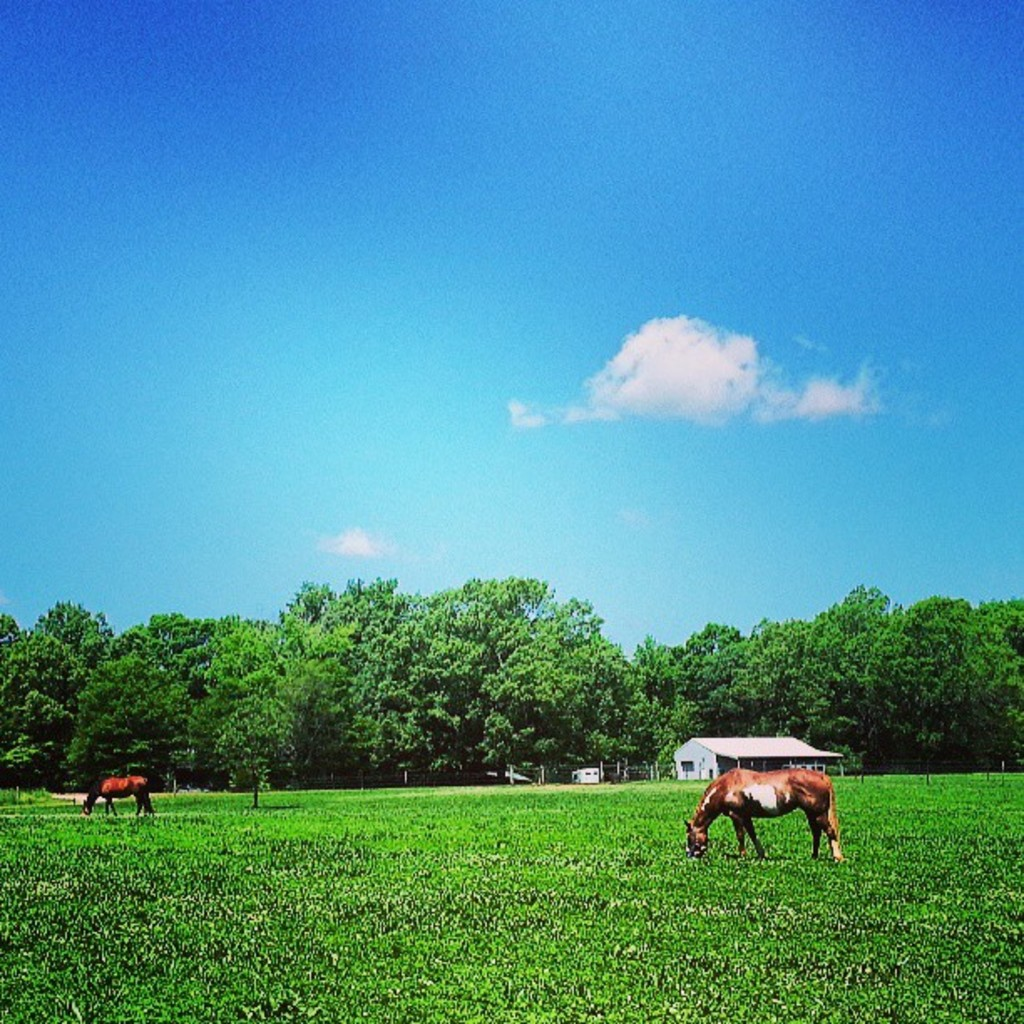horse: (682, 766, 841, 861), (78, 774, 157, 814)
